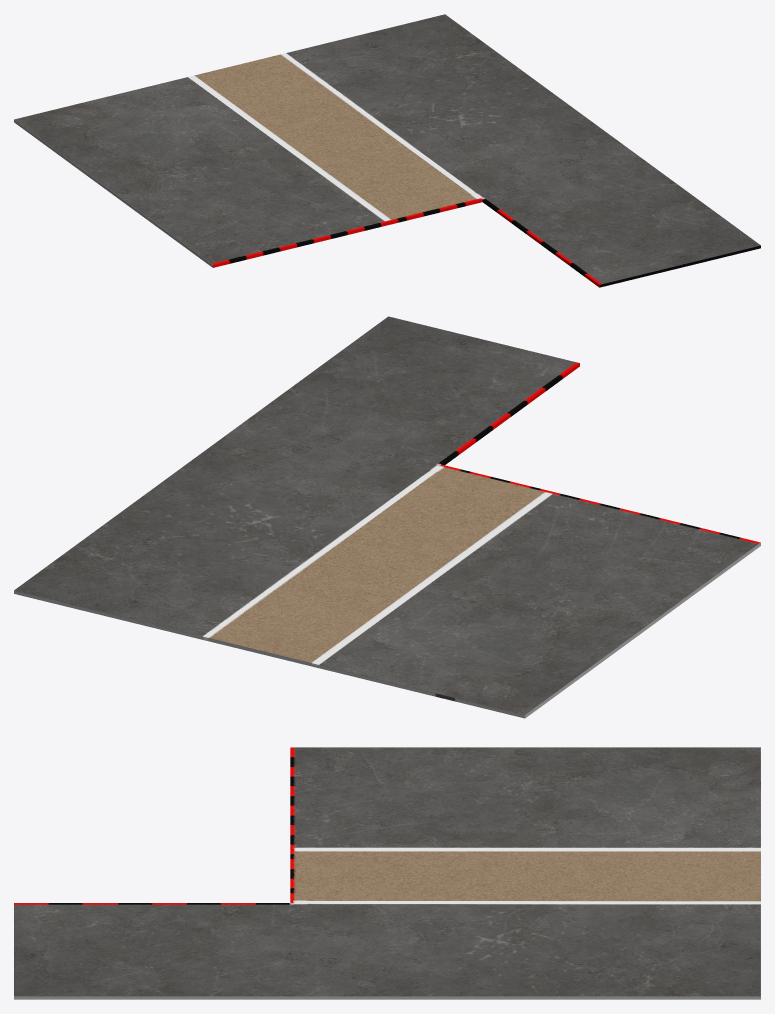
Rendered from ChaosZooCityMapFootpath01.fbx.
3 renders of one model, top to bottom at view 1: azimuth 30°, elevation 25°; view 2: azimuth 150°, elevation 25°; view 3: azimuth 270°, elevation 25°, orthographic. The views are drawn at different scales.
Visible parts, largest first — view 1: pCube40; view 2: pCube40; view 3: pCube40.
Part boxes in pixels (bbox=[...]): pCube40: bbox=[14, 14, 760, 287]; pCube40: bbox=[14, 316, 760, 718]; pCube40: bbox=[14, 747, 760, 999].
Size of the model in its own units: 305 by 1.95 by 387.
